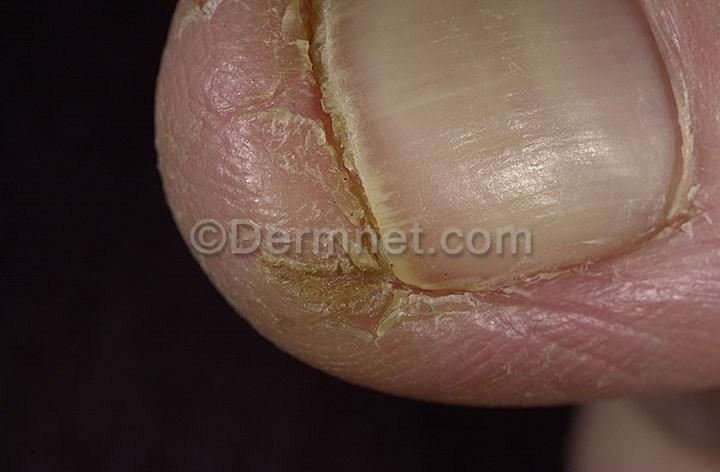Eczema: (225, 184, 359, 310), (179, 0, 298, 116), (212, 92, 332, 204), (618, 247, 713, 366), (512, 271, 612, 379), (326, 273, 416, 364), (424, 301, 514, 381), (152, 102, 220, 189)
